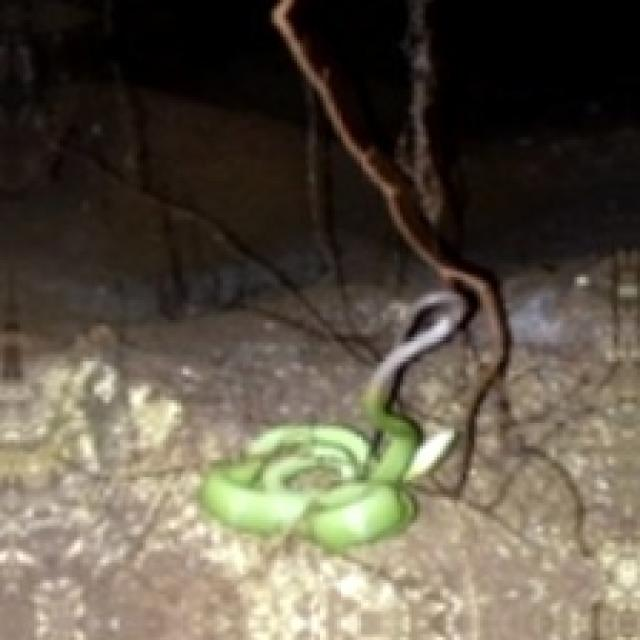red-tailed green ratsnake: (200, 289, 466, 549)
